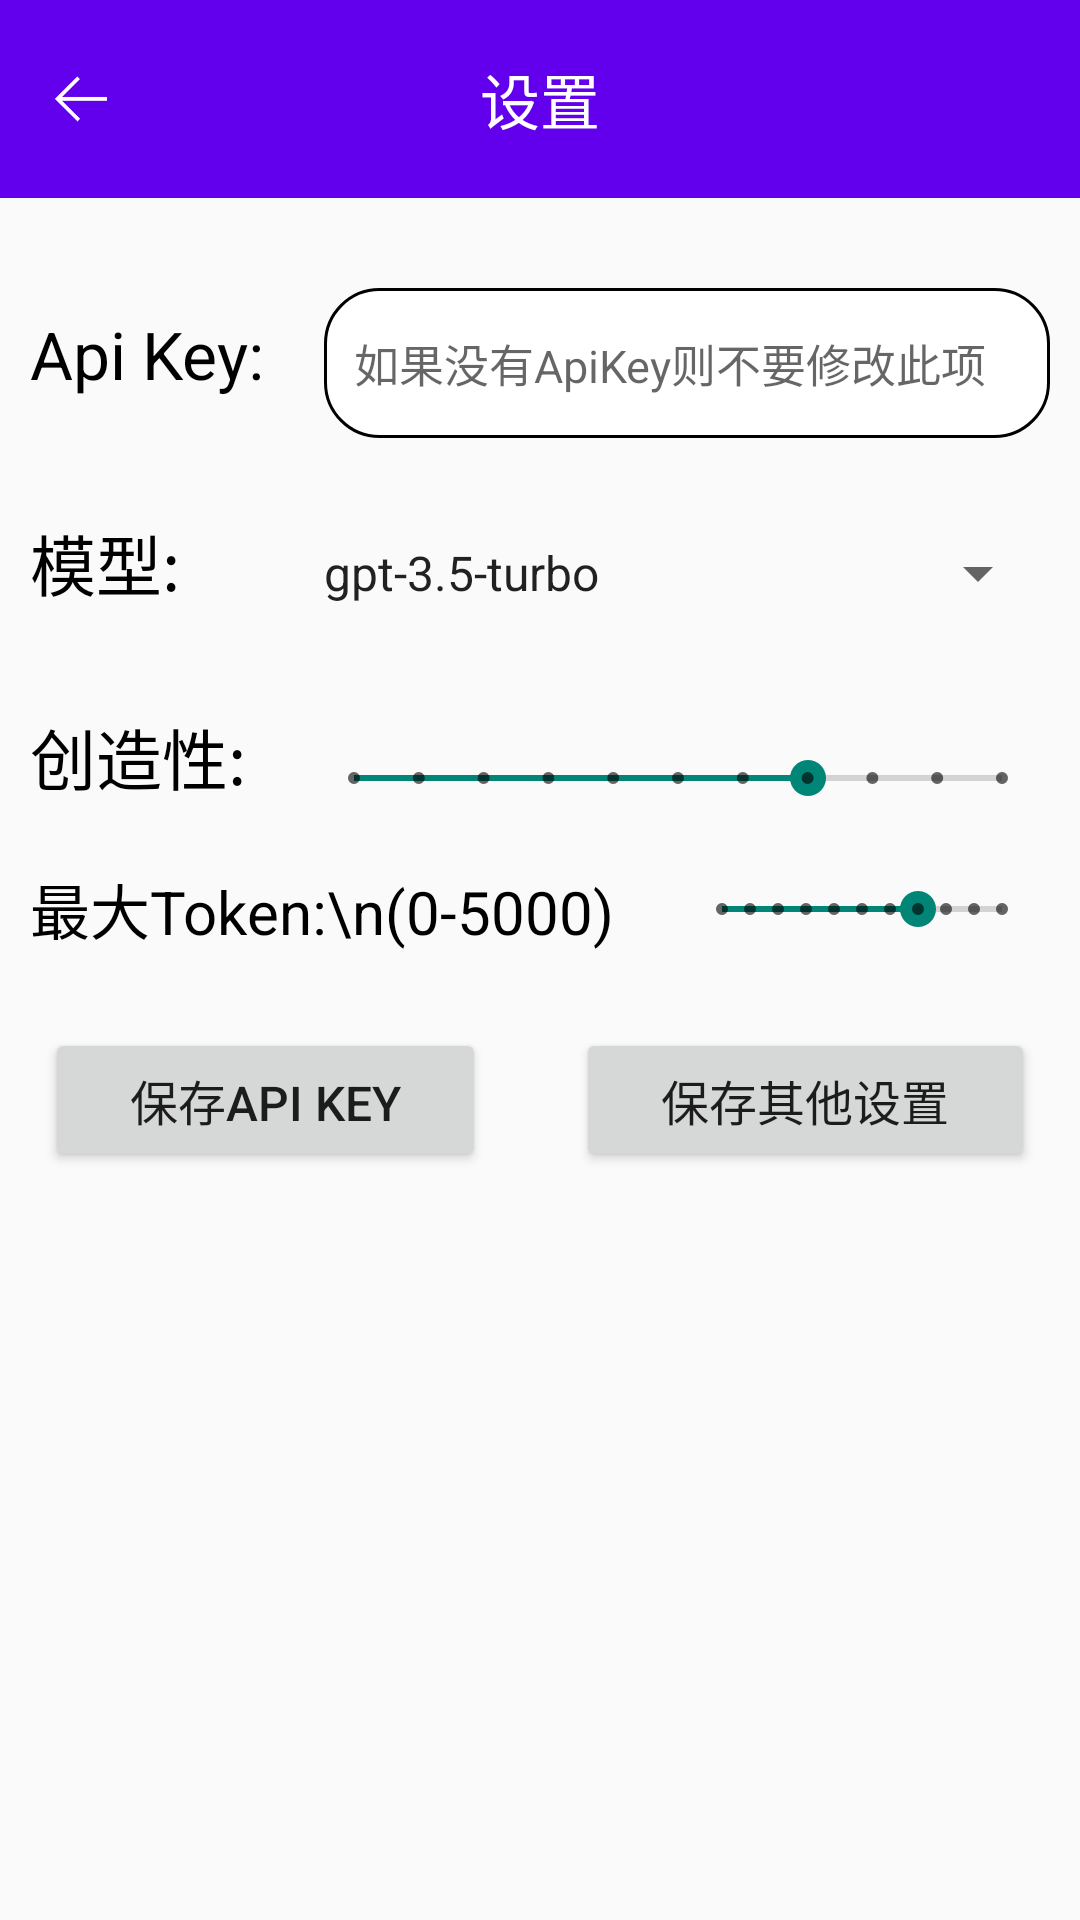

Icons on this 1080px x 1920px Android screen, each with its box as rect(x1, y1, x2, y2):
left arrow: rect(55, 76, 107, 122)
